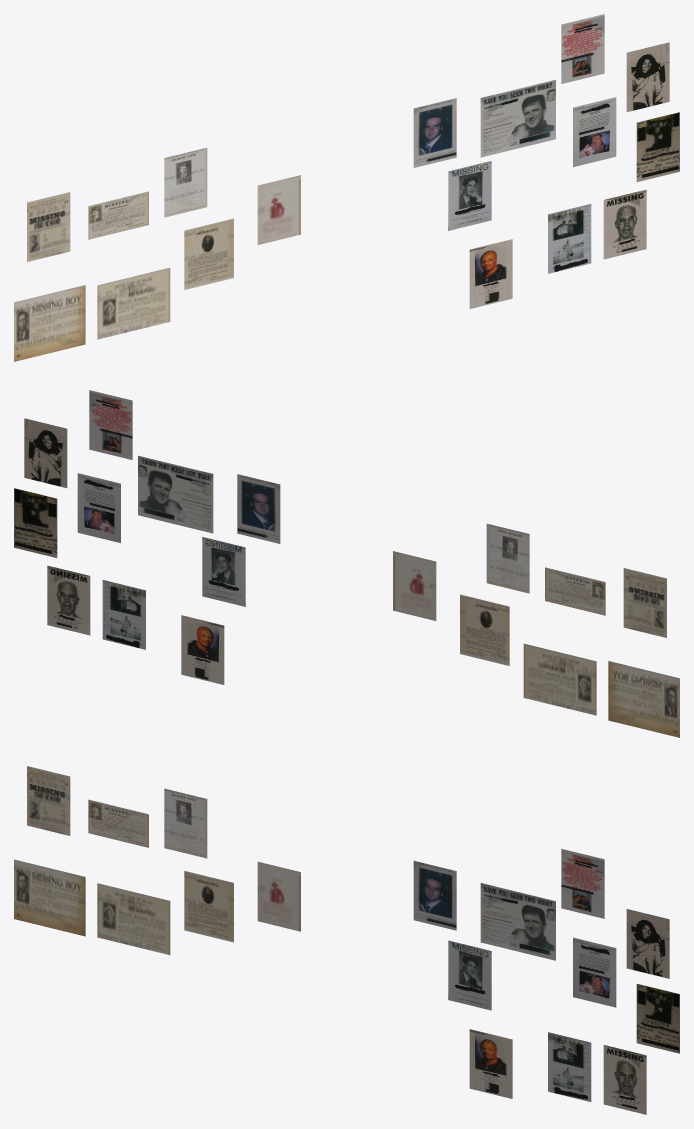
Rendered from missing_persons_posters.glb.
3 renders of one model, top to bottom at view 1: azimuth 30°, elevation 25°; view 2: azimuth 150°, elevation 25°; view 3: azimuth 330°, elevation 25°, orthographic.
Visible parts, largest first — view 1: PosterNew.002, PosterOld.006, PosterOld.005, PosterOld.001, PosterNew, PosterNew.005, PosterNew.009, PosterOld.002, PosterNew.001, PosterNew.004, PosterNew.007, PosterNew.008 (+5 smaller); view 2: PosterNew.002, PosterOld.006, PosterOld.005, PosterOld.001, PosterNew, PosterNew.005, PosterNew.009, PosterOld.002, PosterNew.001, PosterNew.004, PosterNew.007, PosterNew.008 (+5 smaller); view 3: PosterNew.002, PosterOld.006, PosterOld.005, PosterOld.001, PosterNew.001, PosterNew.005, PosterOld.004, PosterNew, PosterNew.003, PosterOld, PosterNew.004, PosterNew.007 (+5 smaller).
Boxes of the visible parts, box(x1,y1,x2,y2) form: PosterNew.002: box(480, 79, 555, 157); PosterOld.006: box(14, 285, 85, 361); PosterOld.005: box(97, 267, 170, 339); PosterOld.001: box(184, 218, 233, 289); PosterNew: box(603, 189, 646, 259); PosterNew.005: box(573, 97, 616, 166); PosterNew.009: box(413, 98, 456, 167); PosterOld.002: box(27, 192, 70, 261); PosterNew.001: box(448, 161, 491, 230); PosterNew.004: box(548, 204, 591, 273); PosterNew.007: box(626, 42, 669, 112); PosterNew.008: box(561, 14, 604, 83); PosterNew.002: box(138, 455, 213, 533); PosterOld.006: box(608, 661, 679, 737); PosterOld.005: box(523, 643, 596, 715); PosterOld.001: box(460, 594, 509, 665); PosterNew: box(47, 565, 90, 635); PosterNew.005: box(77, 473, 120, 542); PosterNew.009: box(237, 474, 280, 543); PosterOld.002: box(623, 568, 666, 637); PosterNew.001: box(202, 537, 245, 606); PosterNew.004: box(102, 580, 145, 649); PosterNew.007: box(24, 418, 67, 488); PosterNew.008: box(89, 390, 132, 459); PosterNew.002: box(480, 883, 555, 960); PosterOld.006: box(14, 859, 85, 936); PosterOld.005: box(97, 883, 170, 954); PosterOld.001: box(184, 871, 233, 942); PosterNew.001: box(448, 940, 491, 1010); PosterNew.005: box(573, 937, 616, 1007); PosterOld.004: box(164, 788, 207, 858); PosterNew: box(603, 1045, 646, 1114); PosterNew.003: box(469, 1029, 512, 1098); PosterOld: box(257, 861, 300, 931); PosterNew.004: box(548, 1032, 591, 1101); PosterNew.007: box(626, 909, 669, 978).
Size of the model in its own units: 23.37 by 8.8 by 1e-06.
Materials: 2 (2 with a texture image).
